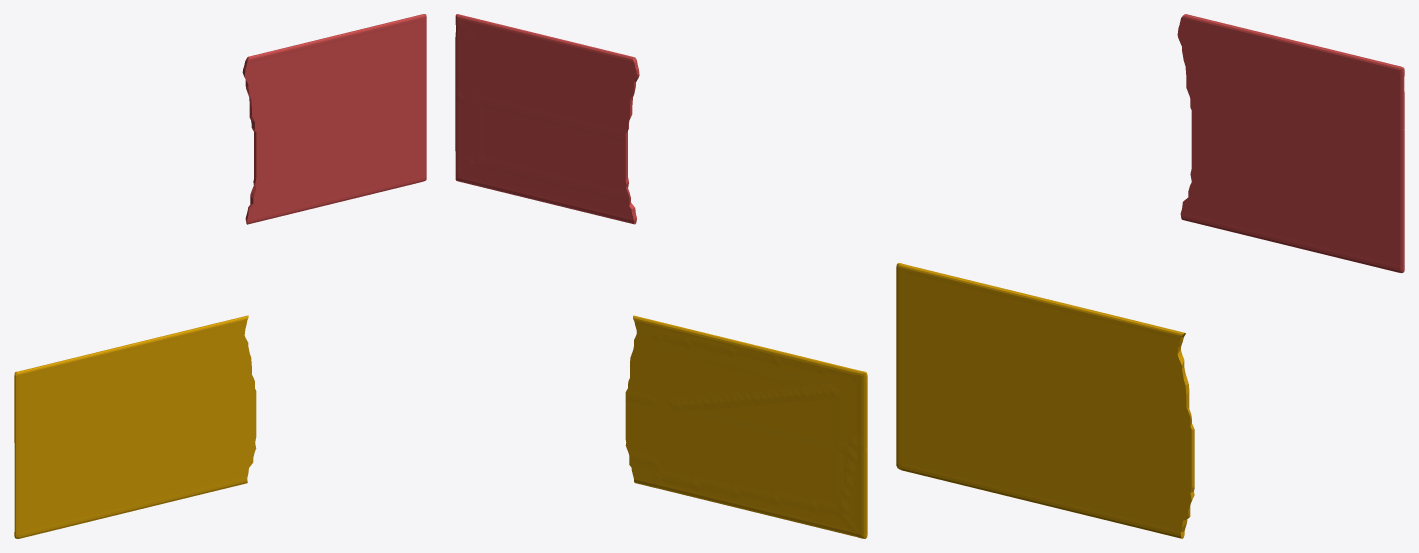
Rendered from mode_1_2pcs_transformed.glb.
3 views of the same model, side by side, from view 1: azimuth 30°, elevation 25°; view 2: azimuth 150°, elevation 25°; view 3: azimuth 330°, elevation 25° (orthographic). The views are drawn at different scales.
Parts seen in each view (by area): view 1: piece_0.obj, piece_1.obj; view 2: piece_0.obj, piece_1.obj; view 3: piece_0.obj, piece_1.obj.
Part boxes in pixels (bbox=[...]): piece_0.obj: bbox=[14, 315, 256, 538]; piece_1.obj: bbox=[242, 14, 426, 224]; piece_0.obj: bbox=[625, 315, 867, 538]; piece_1.obj: bbox=[455, 14, 639, 224]; piece_0.obj: bbox=[896, 263, 1194, 538]; piece_1.obj: bbox=[1177, 14, 1404, 273].
Size of the model in its own units: 1 by 0.9879 by 0.0104.
